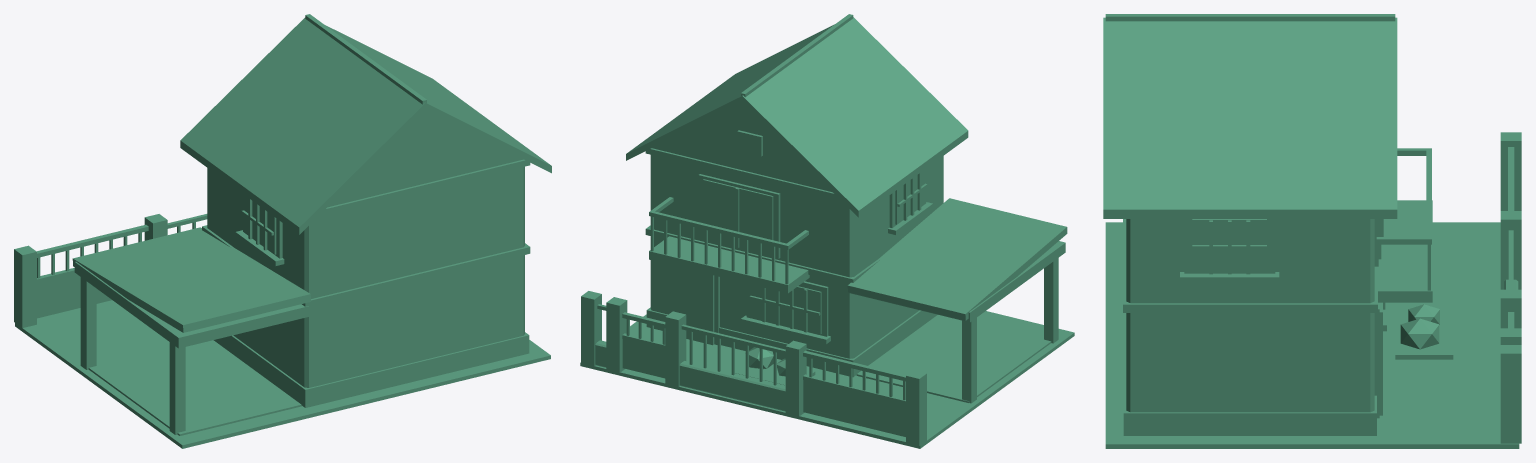
3 renders of one model, left to right at view 1: azimuth 30°, elevation 25°; view 2: azimuth 150°, elevation 25°; view 3: azimuth 270°, elevation 25°, orthographic. The views are drawn at different scales.
Parts seen in each view (by area): view 1: corpo; view 2: corpo; view 3: corpo.
Part boxes in pixels (x1,y1,x2,y2): corpo: (14,14,551,448); corpo: (580,14,1074,448); corpo: (1103,14,1521,448).
Size of the model in its own units: 1.27 by 0.953 by 1.01.
